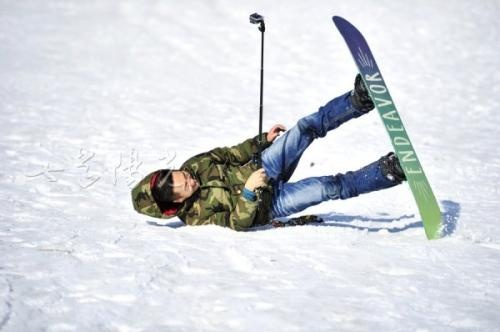falling: (131, 67, 415, 235)
